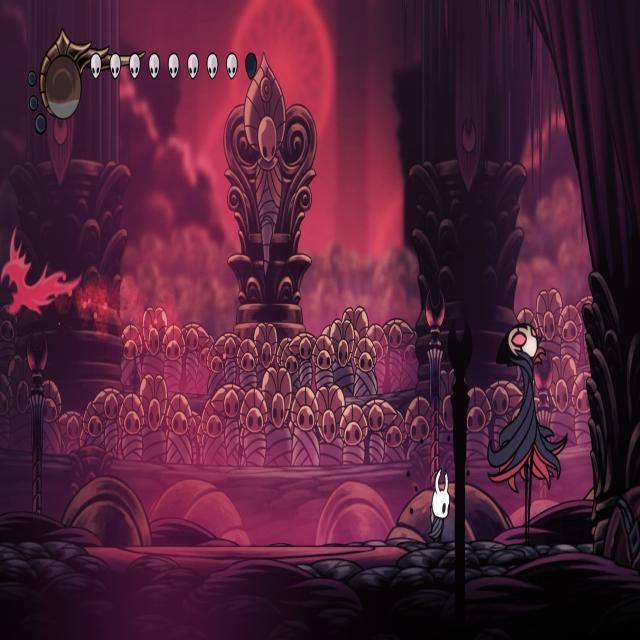Grimm: (484, 315, 568, 549)
Player: (426, 464, 451, 547)
